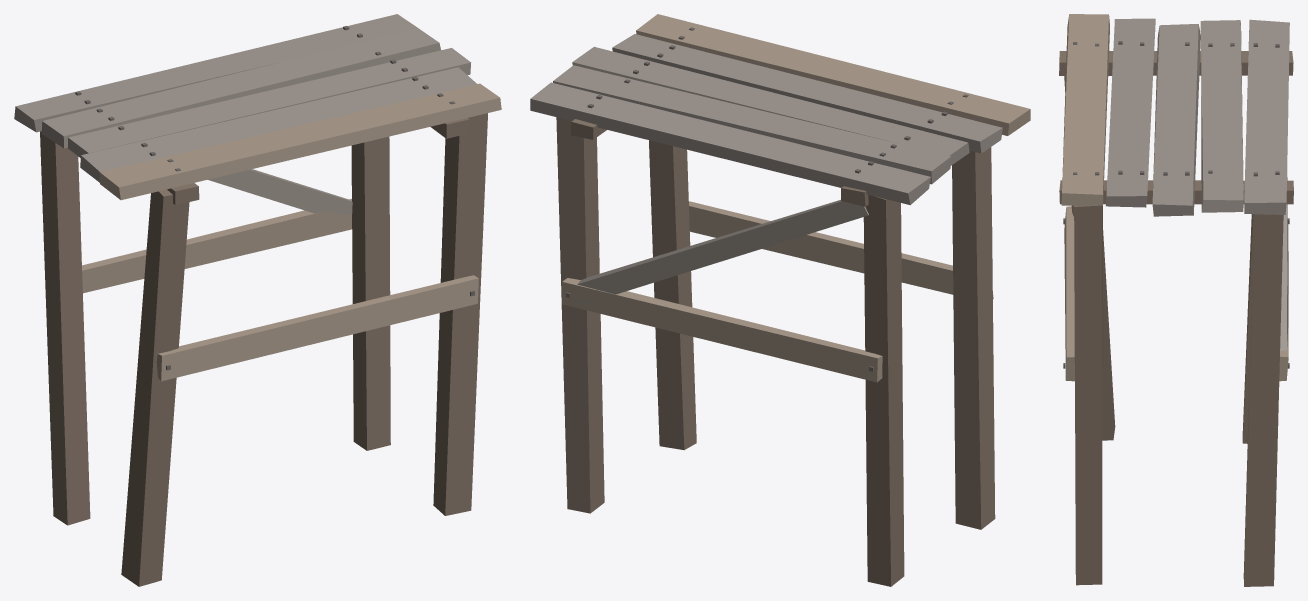
Rendered from Guestbook_Table.fbx.
The picture shows the model from 3 angles, left to right: view 1: azimuth 30°, elevation 25°; view 2: azimuth 150°, elevation 25°; view 3: azimuth 270°, elevation 25°; orthographic projection. The views are drawn at different scales.
Parts seen in each view (by area): view 1: Guestbook_Table; view 2: Guestbook_Table; view 3: Guestbook_Table.
Boxes of the visible parts, box(x1,y1,x2,y2) form: Guestbook_Table: box(14, 14, 501, 586); Guestbook_Table: box(530, 14, 1030, 586); Guestbook_Table: box(1059, 14, 1293, 586).
Size of the model in its own units: 1.23 by 1.22 by 0.6456.
